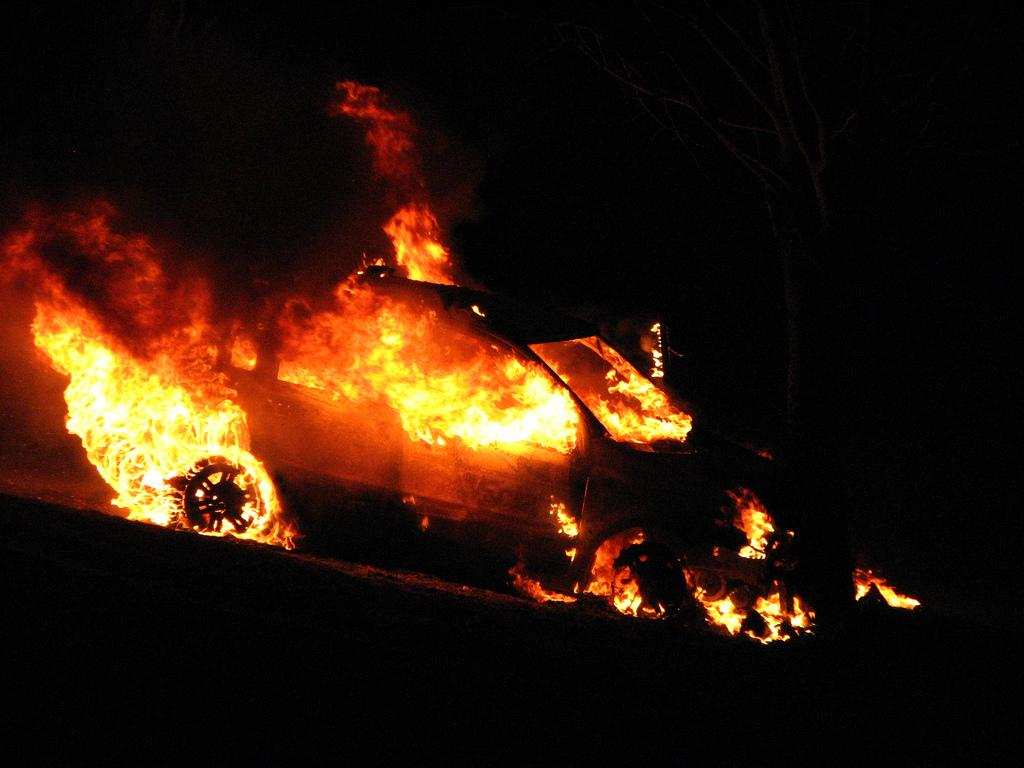fire: (406, 310, 616, 462), (80, 380, 240, 508)
